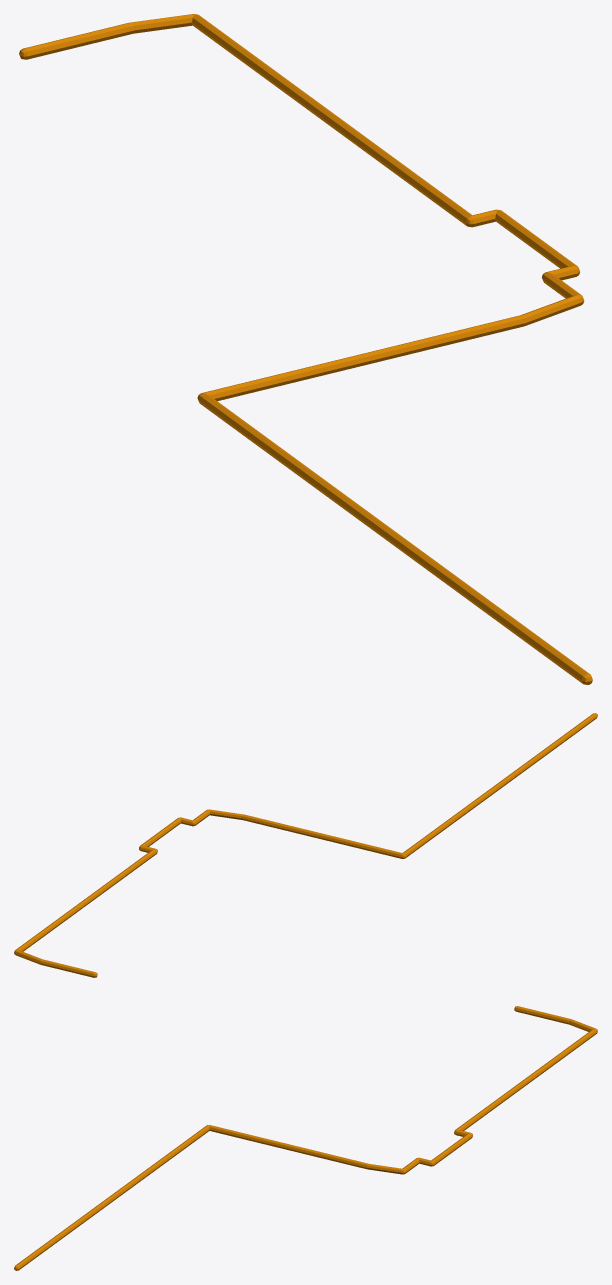
The picture shows the model from 3 angles, top to bottom: view 1: azimuth 30°, elevation 25°; view 2: azimuth 150°, elevation 25°; view 3: azimuth 330°, elevation 25°; orthographic projection. The views are drawn at different scales.
Bounding box in the file's own units: 789 × 20 × 2566.
